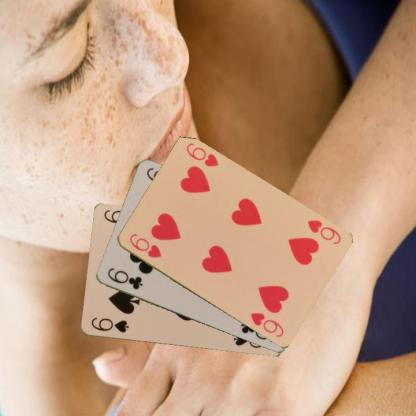6c: (104, 265, 144, 291)
6h: (126, 230, 162, 260), (305, 217, 342, 246)
6s: (88, 315, 130, 334)
